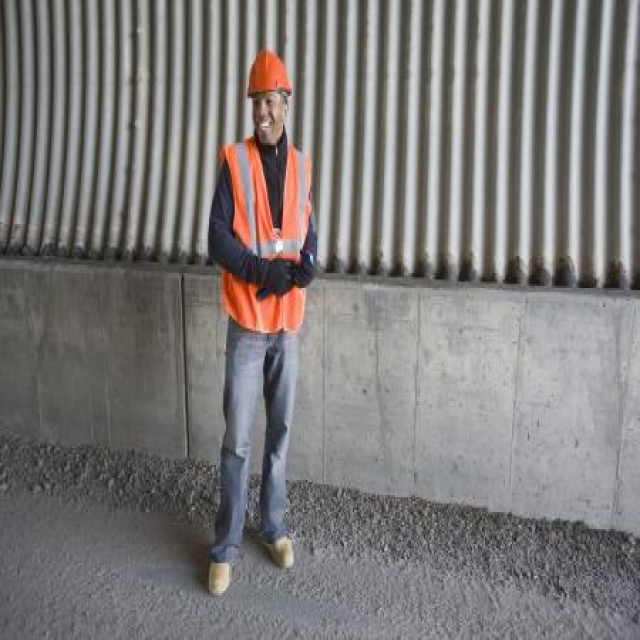Helmet: (233, 30, 305, 164)
Reflective vest: (220, 137, 323, 337)
